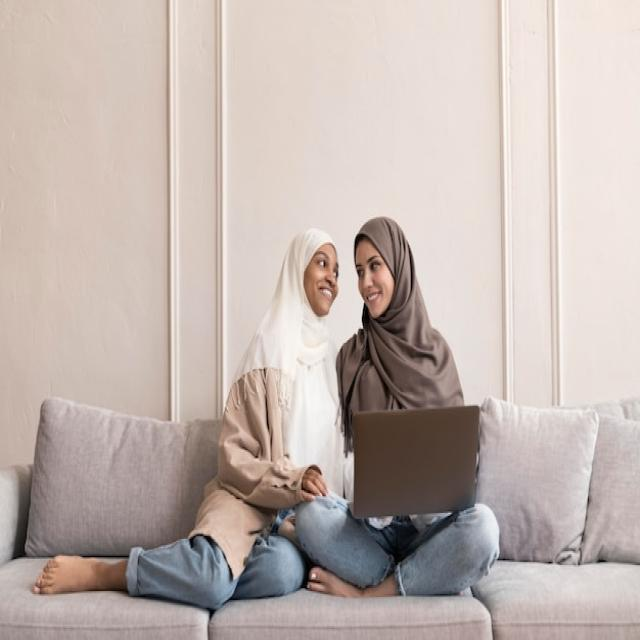Person: (31, 227, 339, 609), (297, 217, 500, 598)
